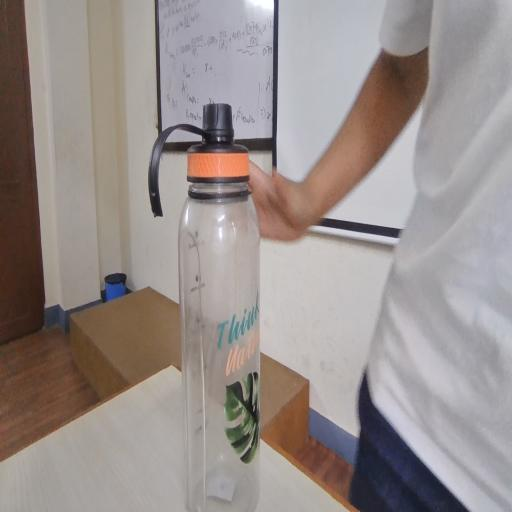Bottle: (154, 86, 274, 477)
